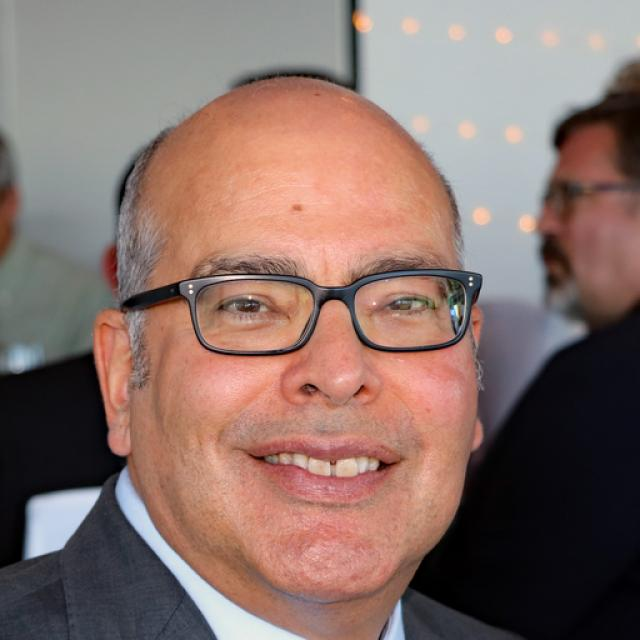Acne: (284, 196, 310, 222)
